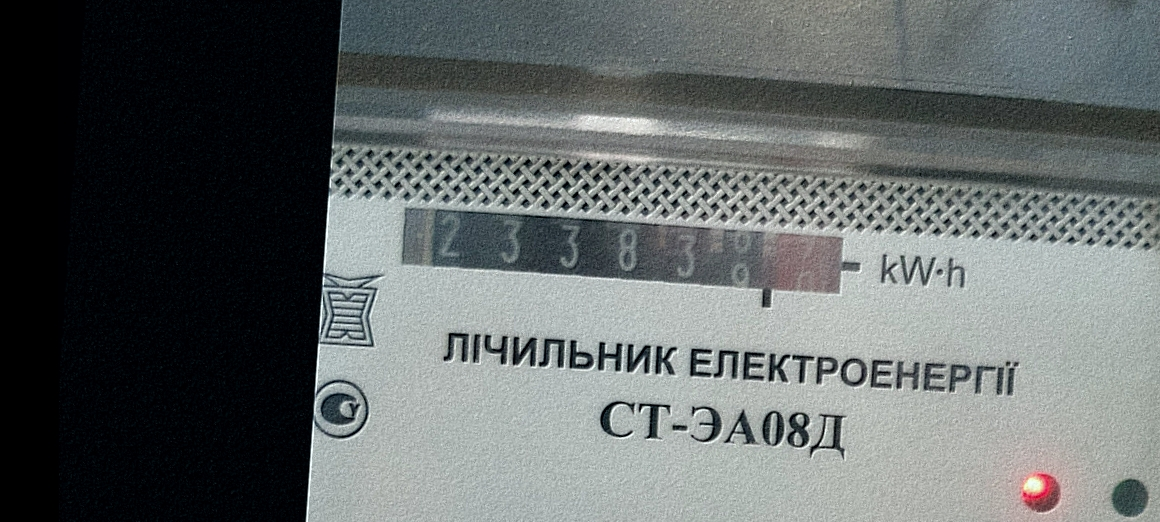0: (796, 268, 819, 296)
2: (439, 213, 466, 261)
3: (554, 221, 586, 272), (496, 216, 528, 266), (674, 232, 701, 279)
8: (614, 227, 644, 274), (731, 228, 756, 257)
9: (797, 232, 821, 263), (730, 260, 753, 291)
screen: (389, 196, 867, 318)
